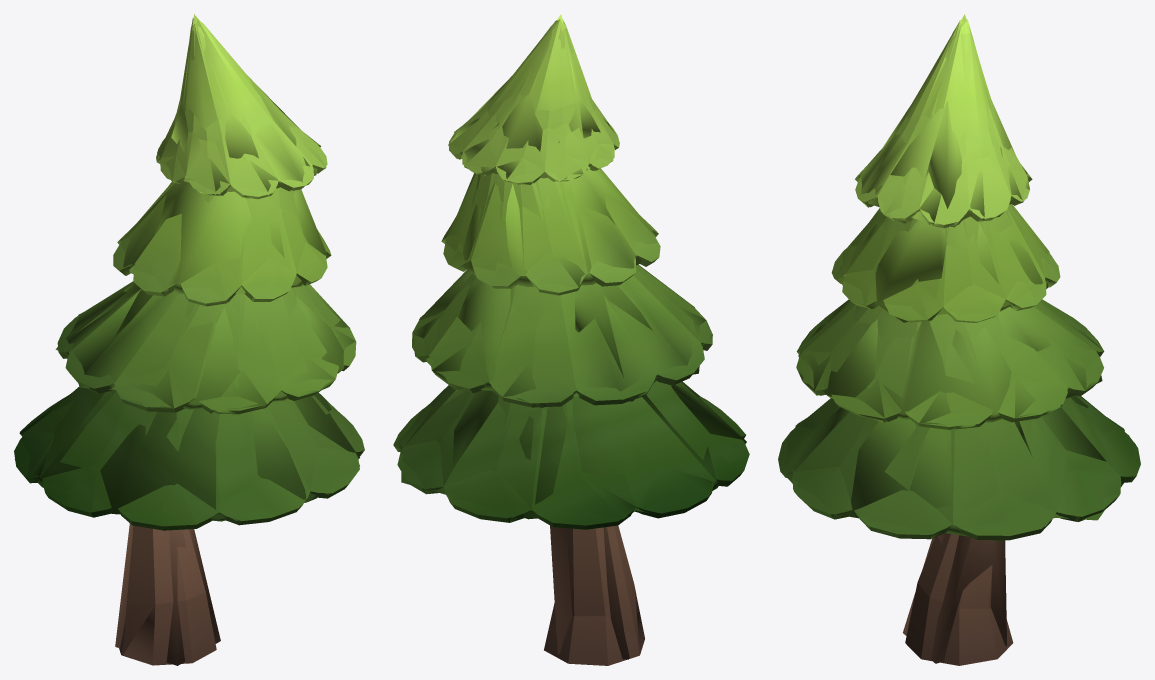
File: arbol verde.fbx
3 renders of one model, left to right at view 1: azimuth 30°, elevation 25°; view 2: azimuth 150°, elevation 25°; view 3: azimuth 270°, elevation 25°, orthographic. The views are drawn at different scales.
Parts seen in each view (by area): view 1: arbol.001, arbol.002, arbol.003; view 2: arbol.002, arbol.001, arbol.003; view 3: arbol.001, arbol.002, arbol.003.
Boxes of the visible parts, x1,y1,x2,y2 form: arbol.001: (14,19,364,665); arbol.002: (19,18,363,665); arbol.003: (14,14,359,665); arbol.002: (394,19,748,665); arbol.001: (393,19,749,665); arbol.003: (401,14,746,659); arbol.001: (778,19,1140,665); arbol.002: (782,19,1135,608); arbol.003: (784,14,1128,663).
Size of the model in its own units: 9.01 by 17.68 by 9.02.
3 materials, 3 textured.
